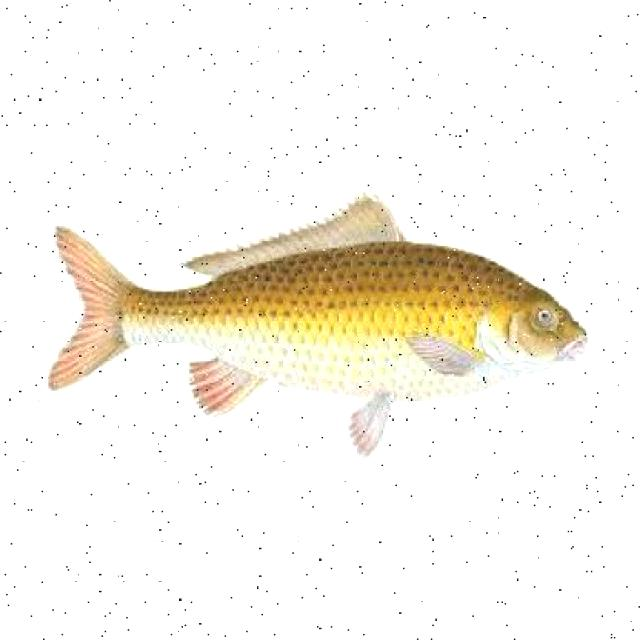ikan-mas: (57, 206, 596, 428)
